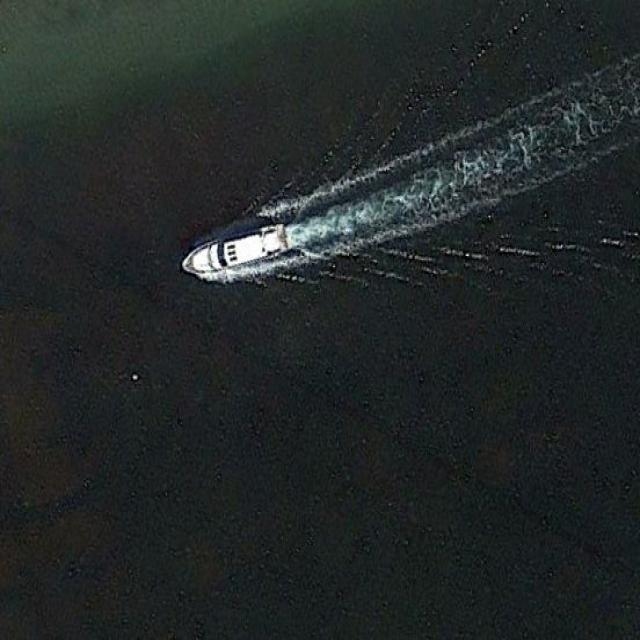boat: (180, 216, 291, 278)
